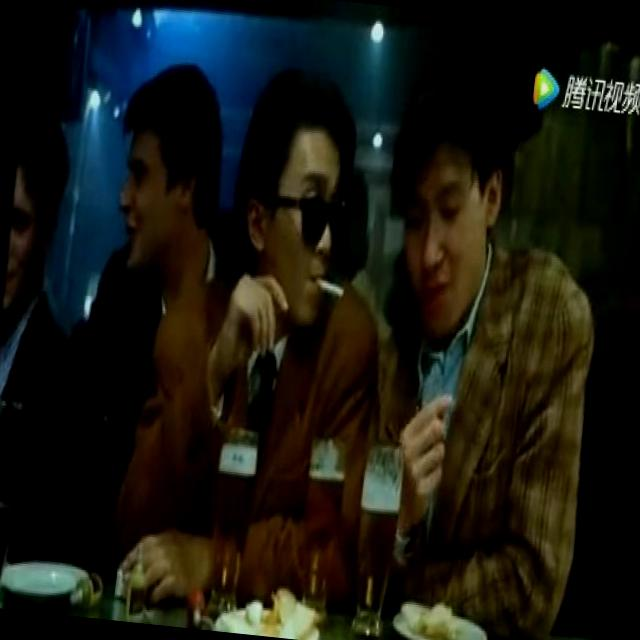smoke: (308, 267, 354, 309)
